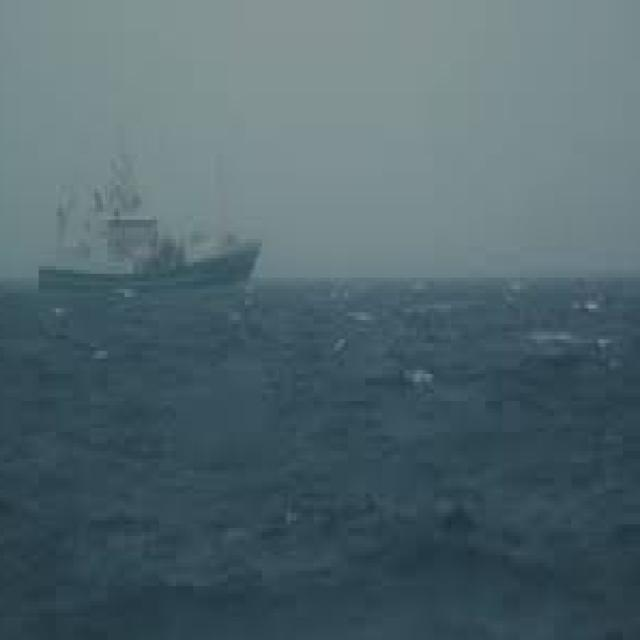fishing boat: (25, 143, 259, 297)
